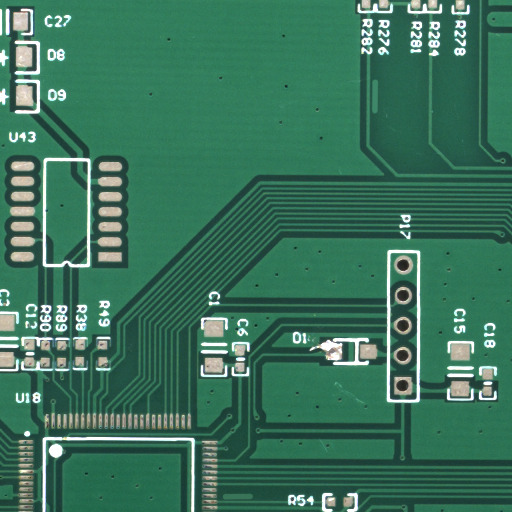Spurious_copper: (238, 496, 270, 504), (375, 96, 382, 131)
